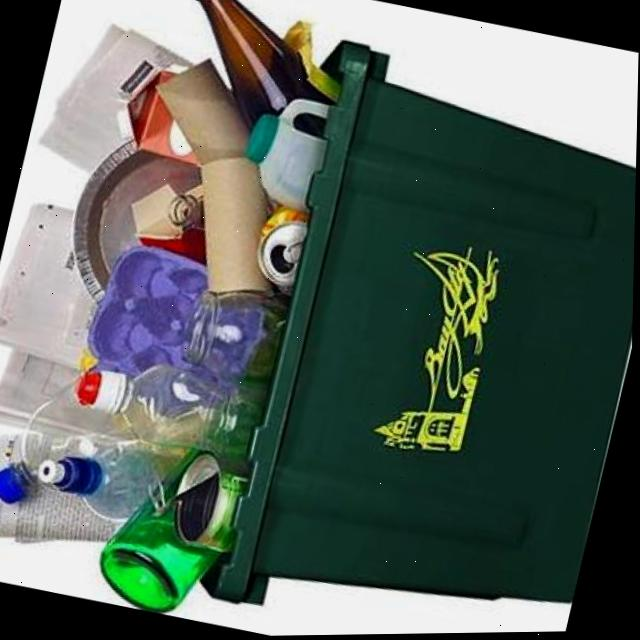Garbage: (0, 0, 348, 604)
Glass_bottle: (196, 0, 329, 125)
Plastic_Container: (204, 41, 637, 603), (93, 247, 209, 374), (246, 98, 329, 210)
Plastic_bottle: (75, 364, 267, 456), (102, 500, 221, 612), (39, 441, 184, 520)
can: (261, 206, 308, 293)
